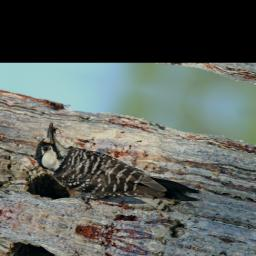Woodpecker: (24, 119, 216, 235)
